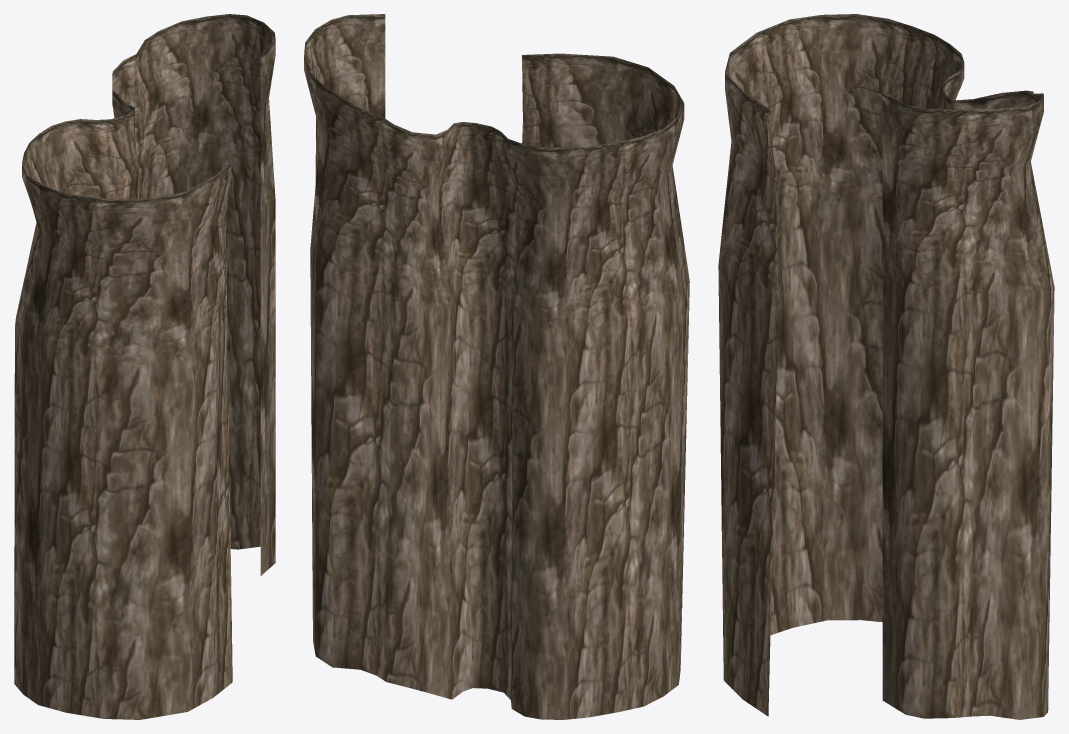
The model's file is OVERHILL_A_01_LINE145.fbx.
3 views of the same model, side by side, from view 1: azimuth 30°, elevation 25°; view 2: azimuth 150°, elevation 25°; view 3: azimuth 270°, elevation 25° (orthographic). The views are drawn at different scales.
Visible parts, largest first — view 1: OVERHILL_A_01_LINE145; view 2: OVERHILL_A_01_LINE145; view 3: OVERHILL_A_01_LINE145.
Boxes of the visible parts, <box> form: OVERHILL_A_01_LINE145: <box>14,14,275,719</box>; OVERHILL_A_01_LINE145: <box>304,14,689,719</box>; OVERHILL_A_01_LINE145: <box>718,14,1054,719</box>.
Bounding box in the file's own units: 145973 × 284715 × 128705.
Materials: 2 (2 with a texture image).
